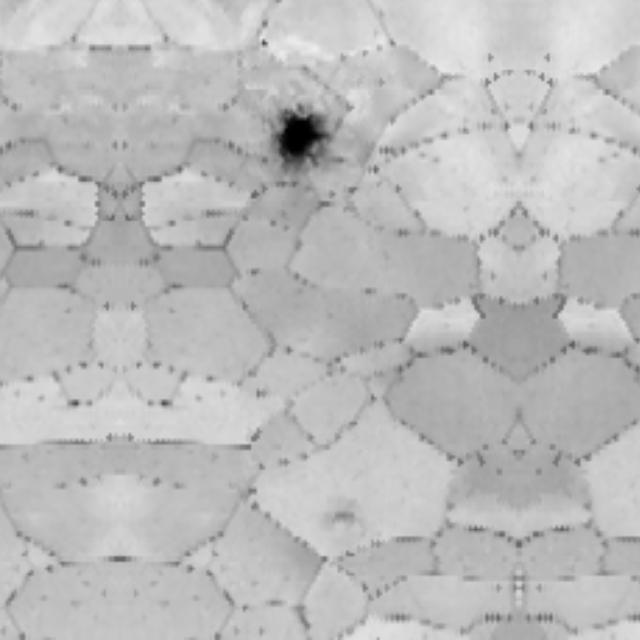good_void: (269, 101, 349, 175), (316, 492, 374, 539)
